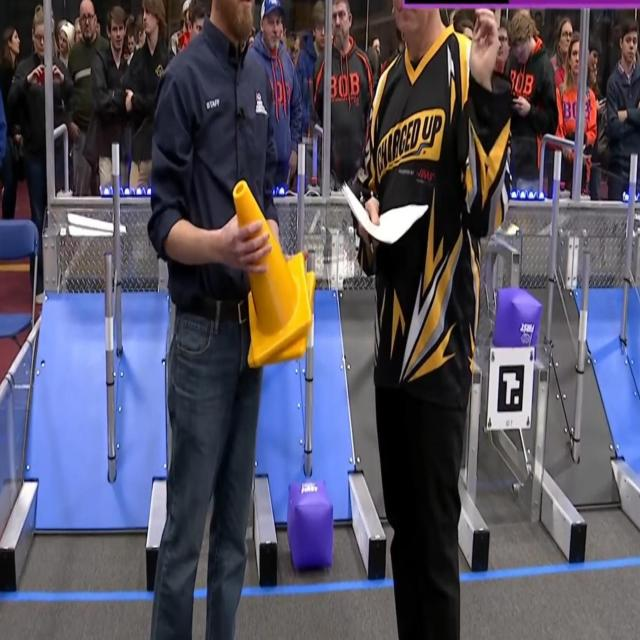frc_cone: (232, 177, 312, 365)
frc_cube: (287, 479, 334, 570), (493, 286, 540, 354)
